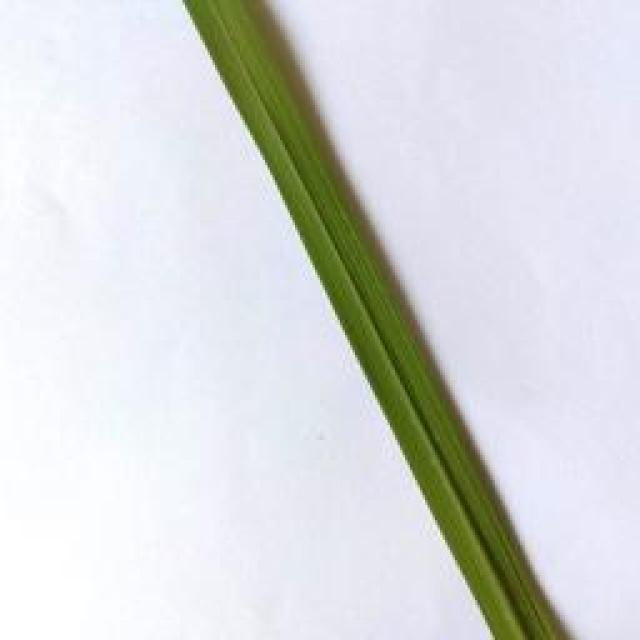Healthy-Plant: (184, 3, 556, 640)
